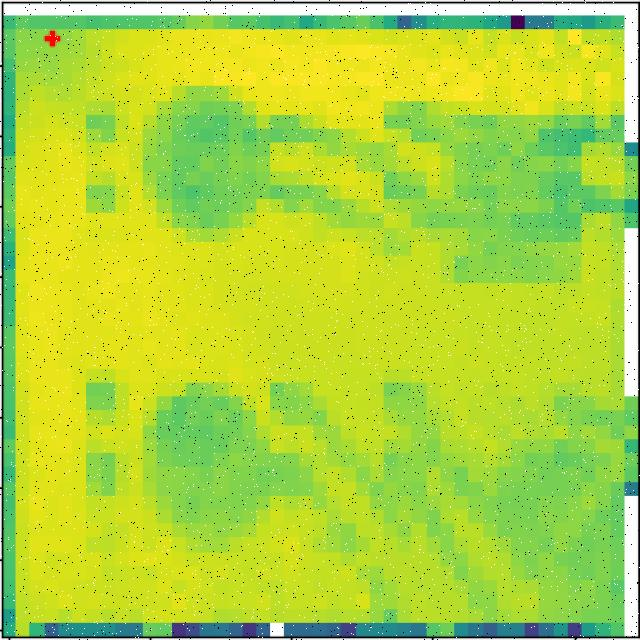Concrete: (110, 56, 294, 255)
Glass: (409, 379, 604, 615)
Metal: (146, 367, 296, 569)
Wood: (383, 77, 604, 309)
